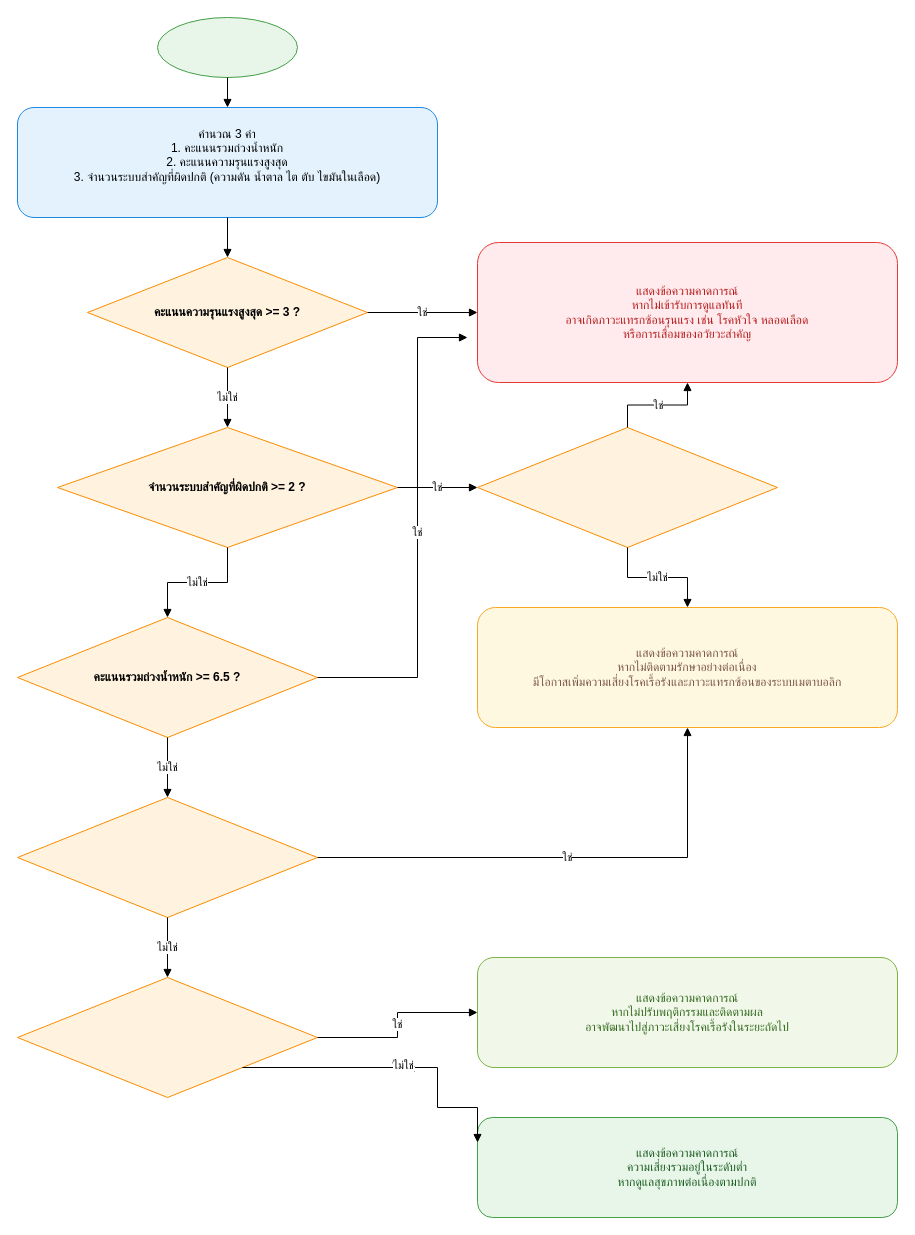
The diagram is 915 pixels wide and 1235 high, and some of its shapes have lost their labels. The centre of each missing label's shape, as x and y in pixels:
คะแนนรวมถ่วงน้ำหนัก > 0 ?: point 167,1037
คะแนนรวมถ่วงน้ำหนัก >= 3.0 ?: point 167,857
คะแนนรวมถ่วงน้ำหนัก >= 4.5 ?: point 627,487
เริ่ม: point 227,47
